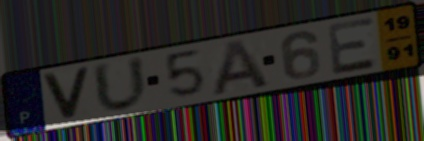5: (160, 46, 208, 101)
6: (278, 28, 322, 81)
A: (209, 36, 273, 98)
E: (325, 15, 381, 77)
U: (90, 53, 151, 115)
V: (39, 65, 94, 122)
